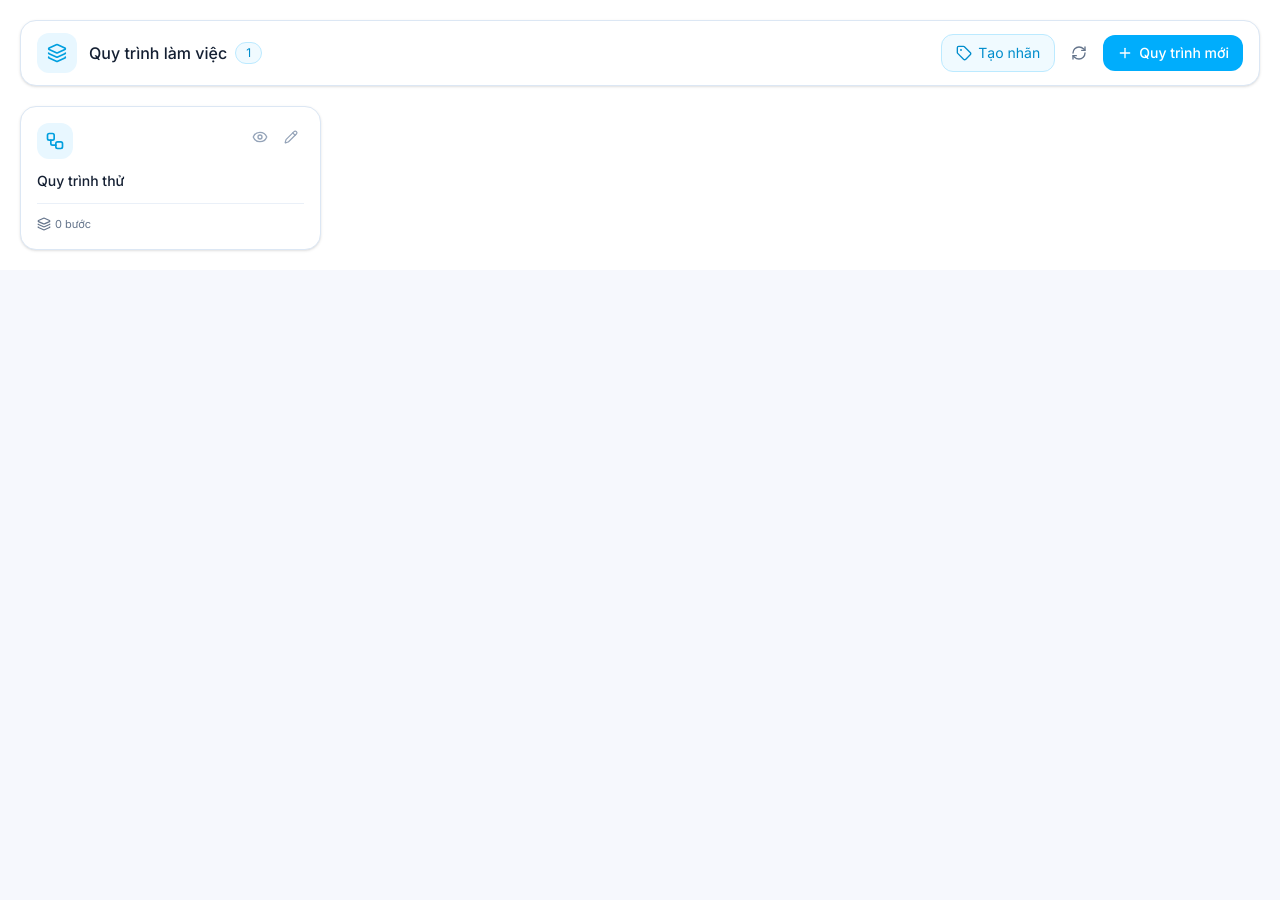
WorkflowTab delete › opens confirmation from the detail view and deletes the selected workflow
expect the heading "Quy trình thử" is shown: met, box [37,172,124,189]
Click the button titled "Xem chi tiết quy trình": (260, 137) [246,123,274,151]
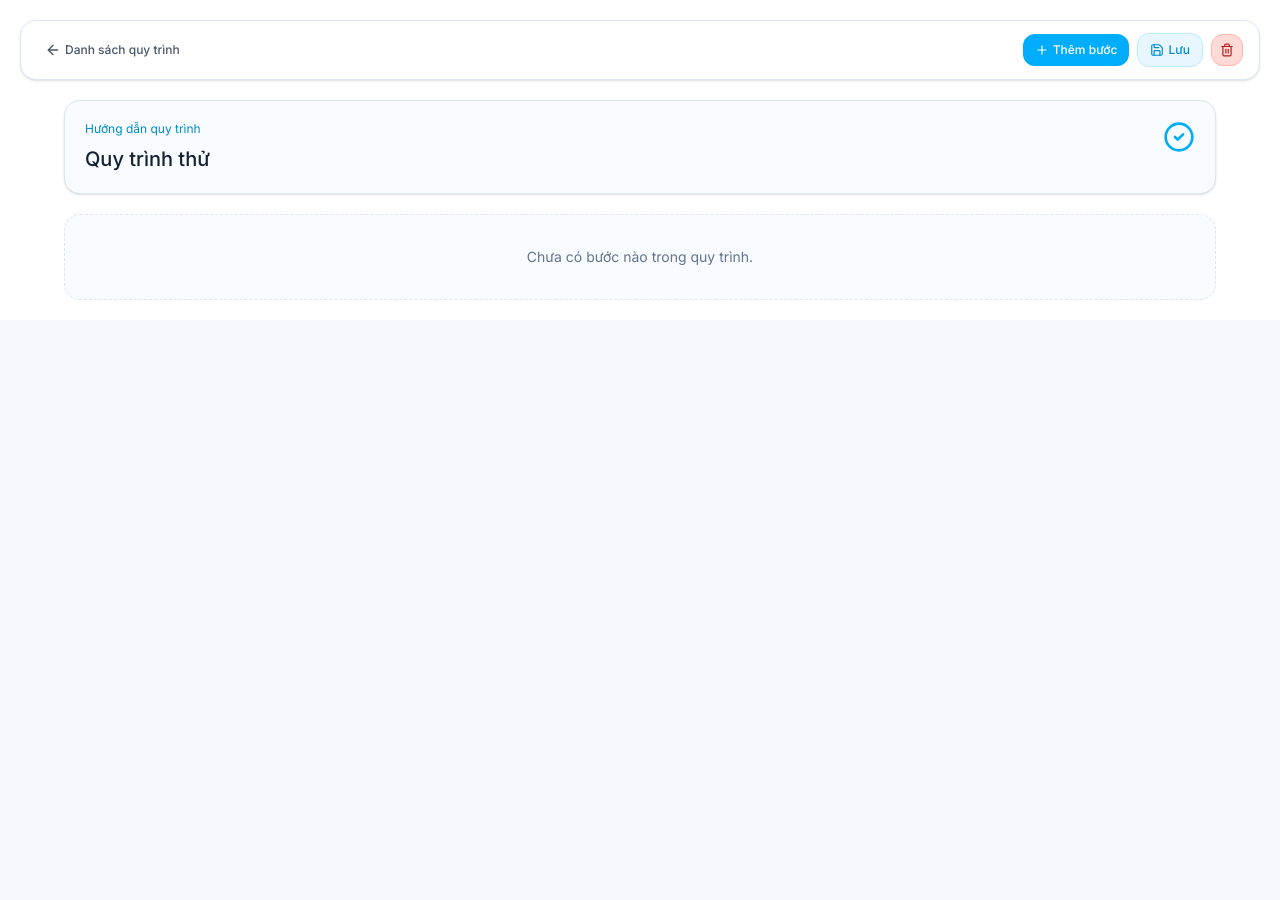
Click the button titled "Xóa quy trình": (1227, 50) [1211,34,1243,66]
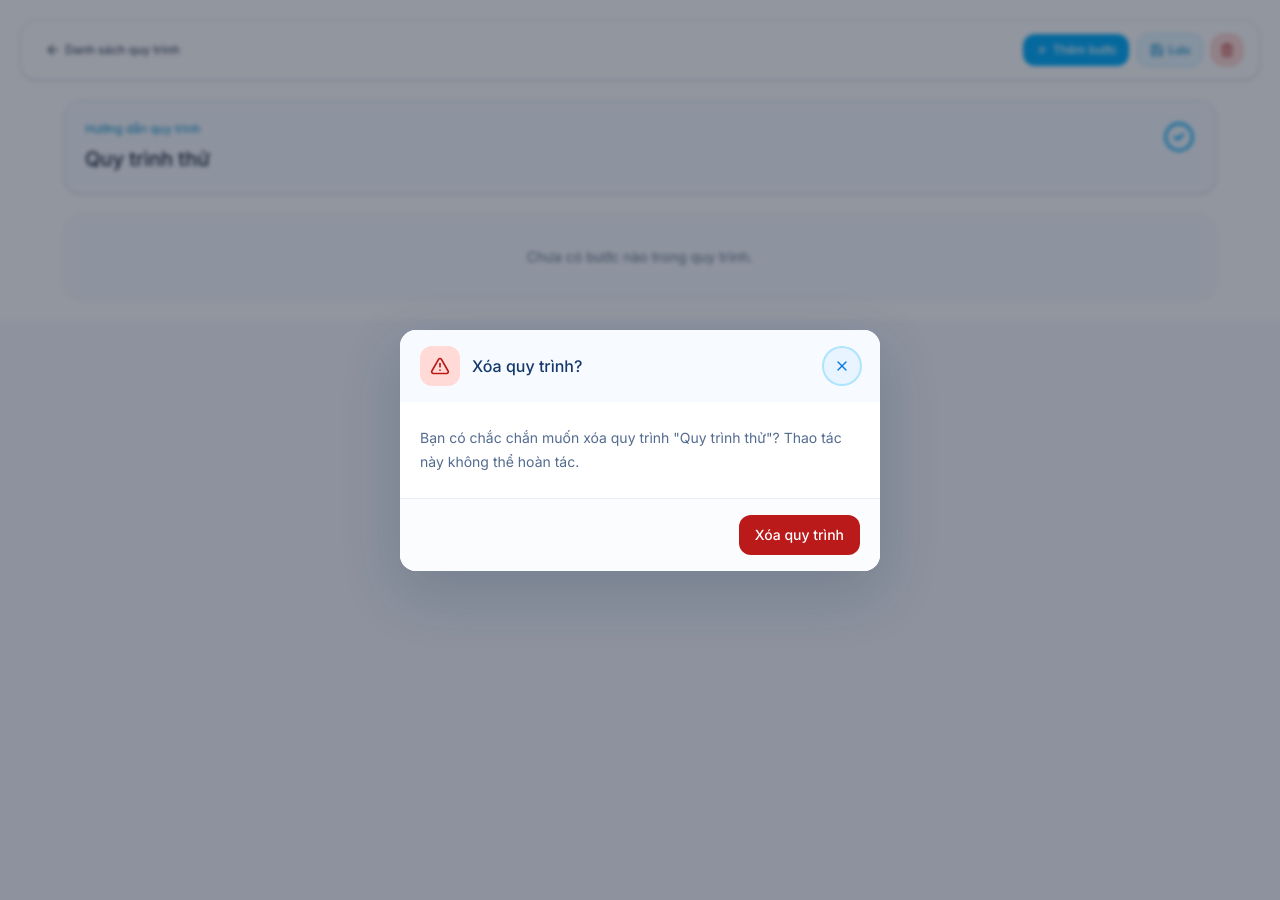
Click the button "Xóa quy trình": (799, 534) [739,514,860,554]
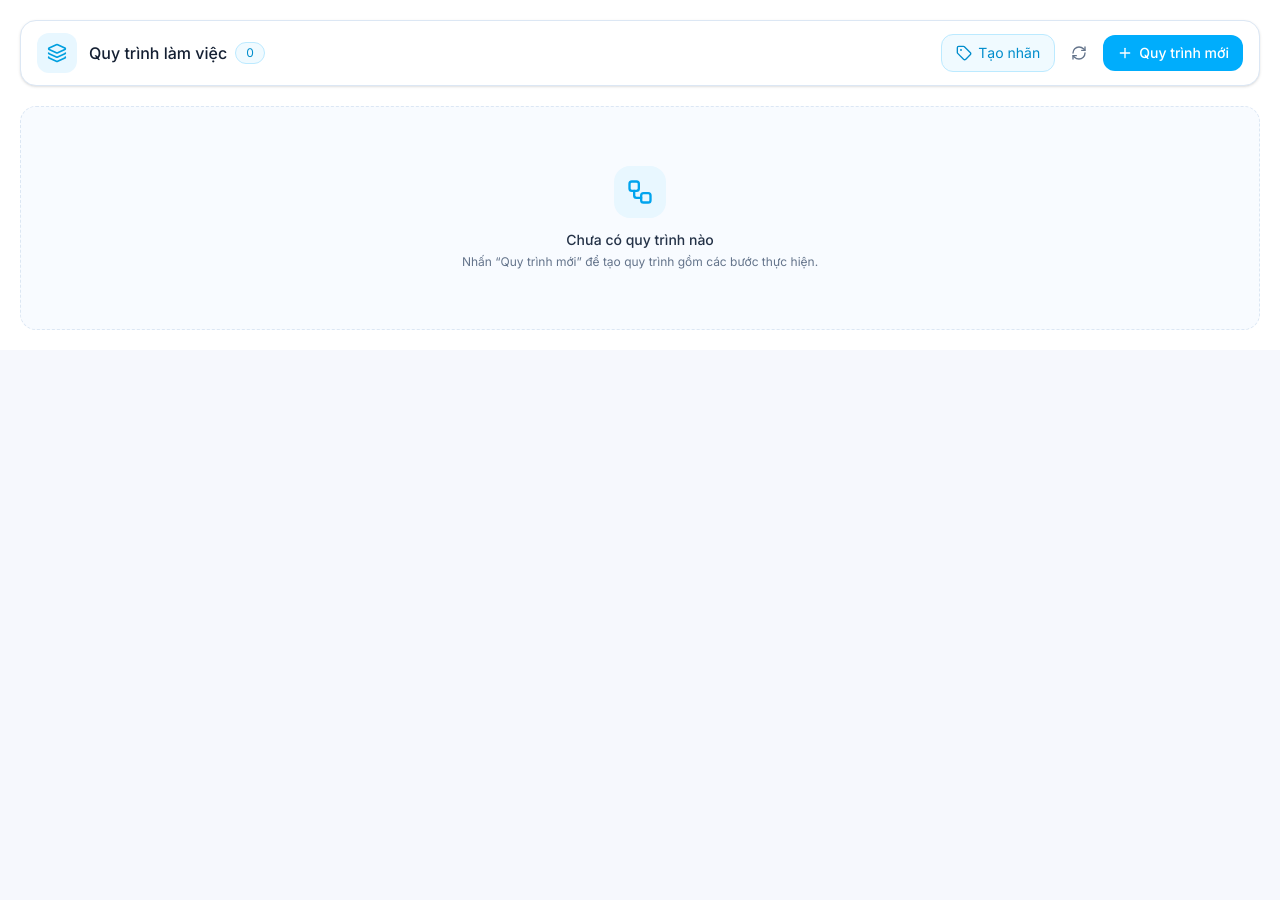
expect the text "Chưa có quy trình nào" is shown: met, box [566,230,714,250]
